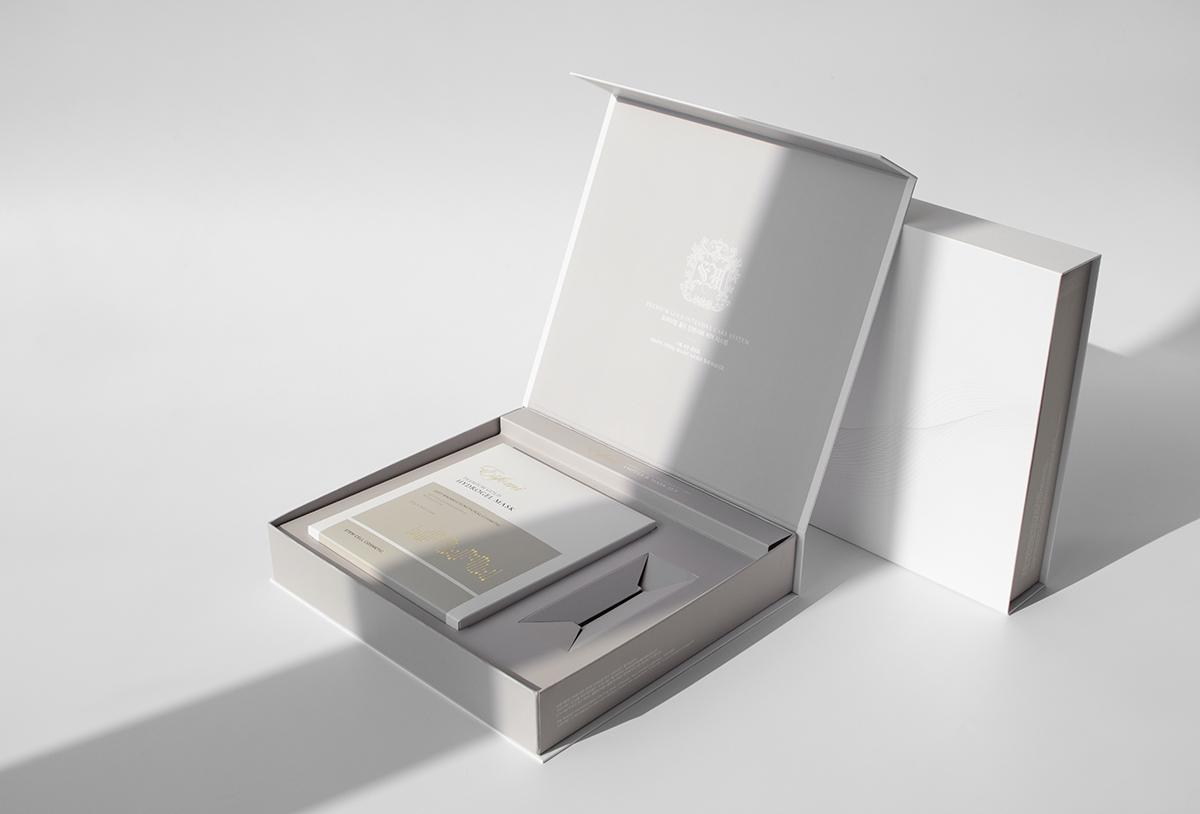box: (269, 90, 918, 760)
